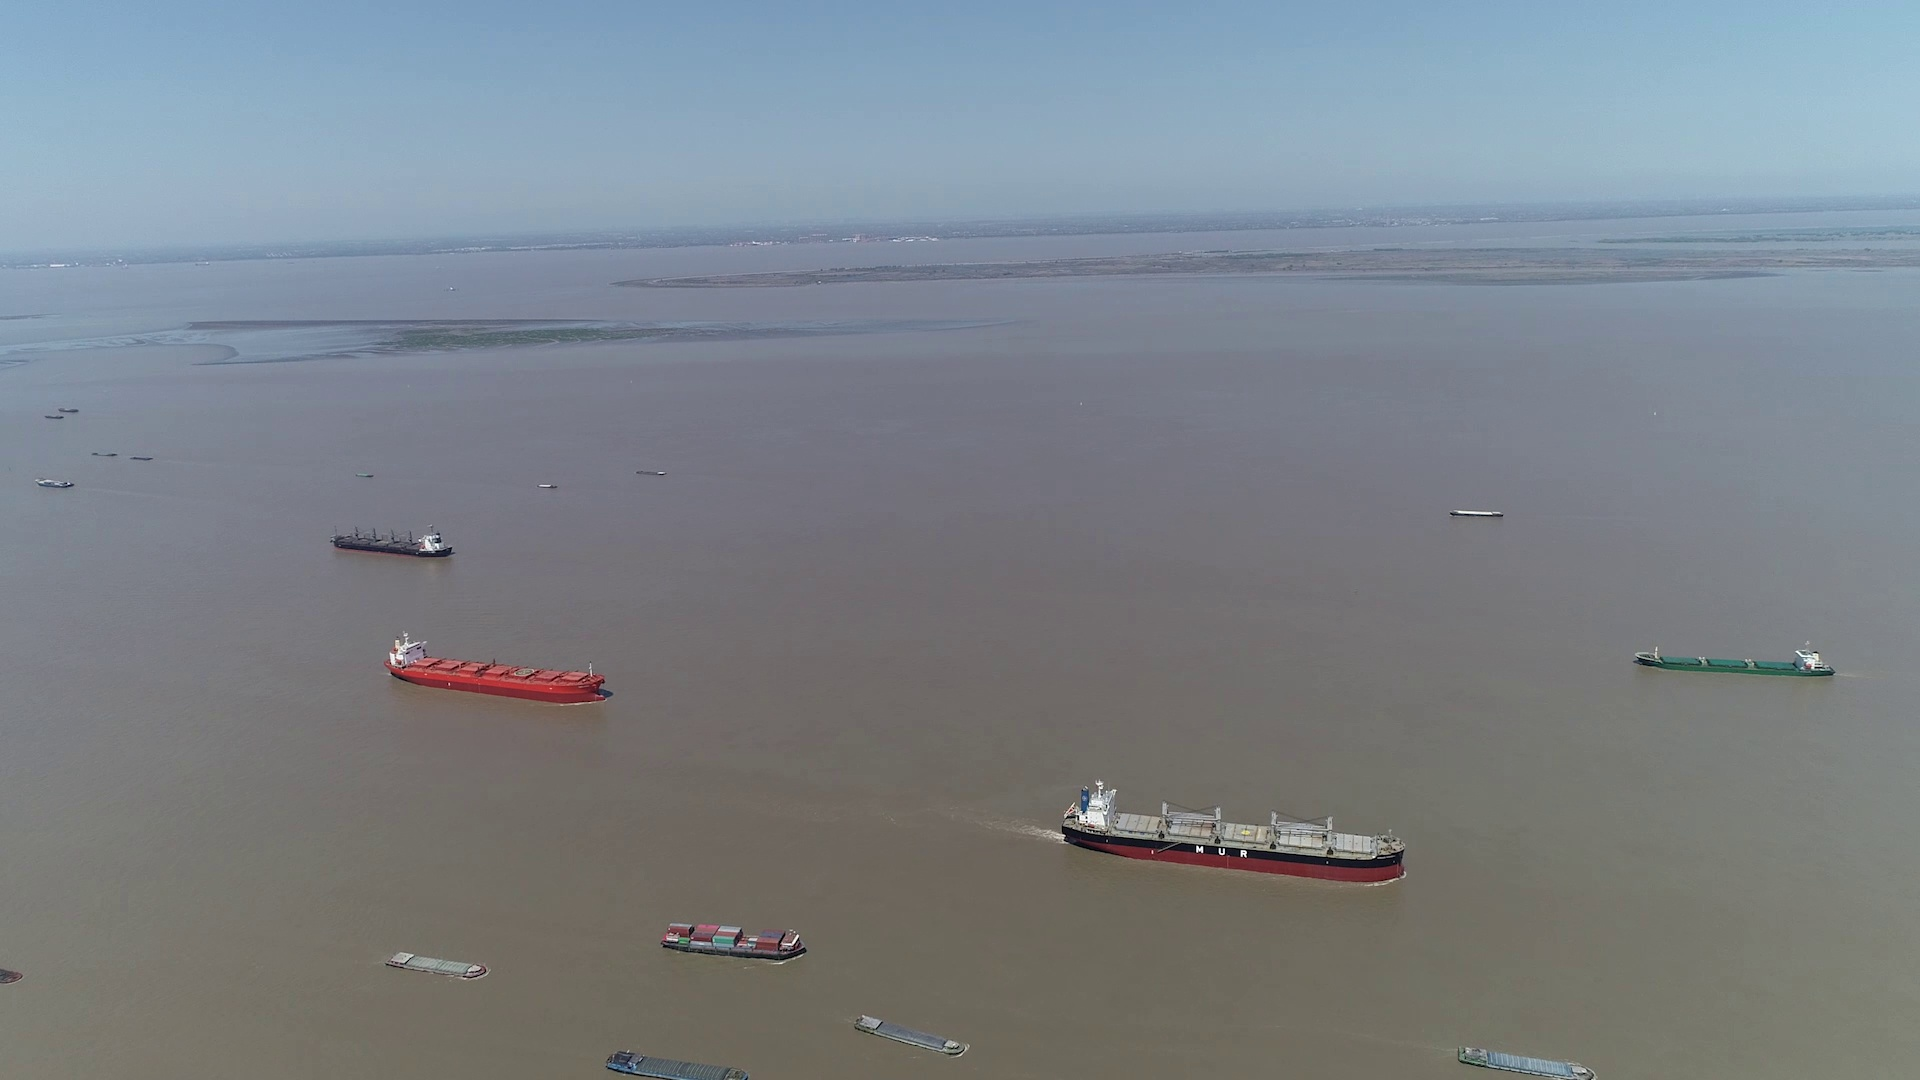ship: (1062, 781, 1408, 881), (385, 634, 605, 702), (1636, 646, 1836, 676), (659, 922, 806, 961), (853, 1013, 965, 1055), (1457, 1044, 1593, 1079), (605, 1050, 750, 1079), (328, 525, 452, 558), (385, 951, 487, 978), (1451, 509, 1503, 520), (38, 477, 76, 488)
